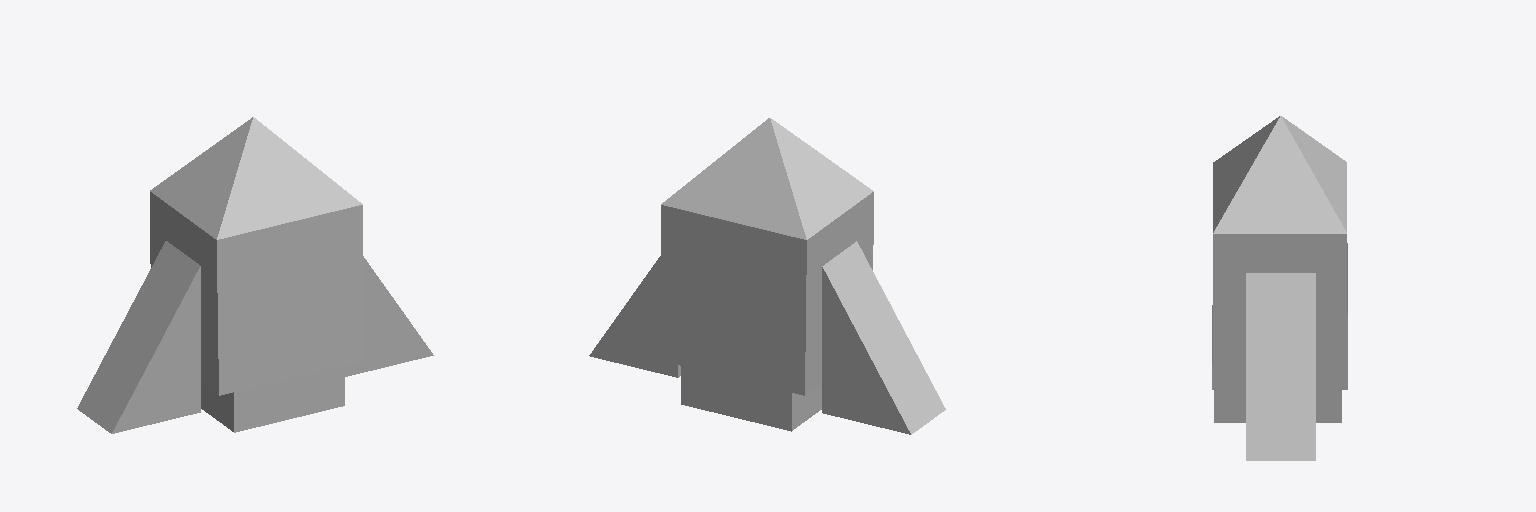
The model's file is lander.obj.
The picture shows the model from 3 angles: view 1: azimuth 30°, elevation 25°; view 2: azimuth 150°, elevation 25°; view 3: azimuth 270°, elevation 25°; orthographic projection.
Visible parts, largest first — view 1: main, leftfin, cone, engine; view 2: back, leftfin, cone, engine, main, rightfin; view 3: rightfin, main, cone, engine.
Part boxes in pixels (bbox=[...]): main: bbox=[150, 192, 362, 395]; leftfin: bbox=[77, 241, 433, 433]; cone: bbox=[150, 117, 362, 239]; engine: bbox=[201, 365, 344, 432]; back: bbox=[661, 205, 806, 395]; leftfin: bbox=[822, 241, 945, 434]; cone: bbox=[661, 118, 873, 239]; engine: bbox=[681, 366, 821, 431]; main: bbox=[805, 192, 873, 395]; rightfin: bbox=[589, 256, 680, 377]; rightfin: bbox=[1246, 273, 1315, 460]; main: bbox=[1212, 234, 1347, 389]; cone: bbox=[1213, 116, 1346, 233]; engine: bbox=[1214, 390, 1341, 422].
Size of the model in its own units: 34.64 by 28.63 by 12.57.